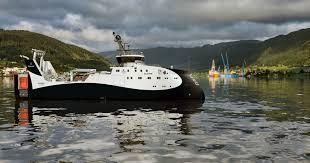Ship: (16, 34, 206, 114)
